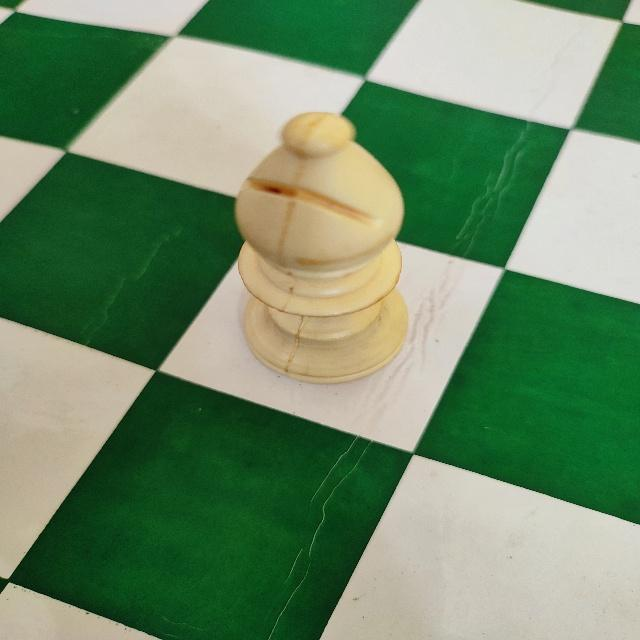Bishop: (228, 105, 420, 389)
